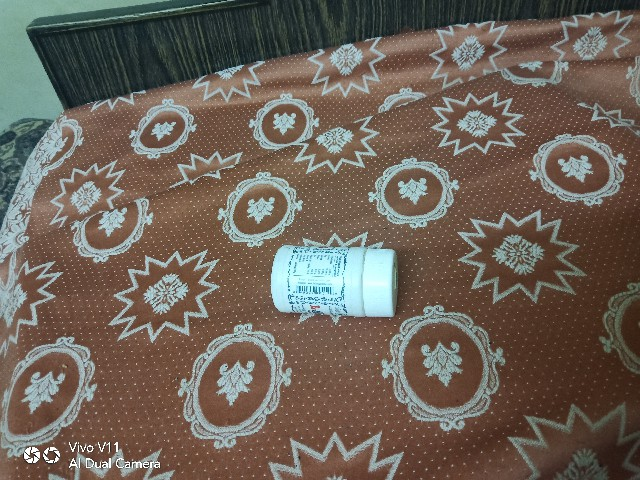lgasafoetidapowder small: (246, 238, 408, 331)
